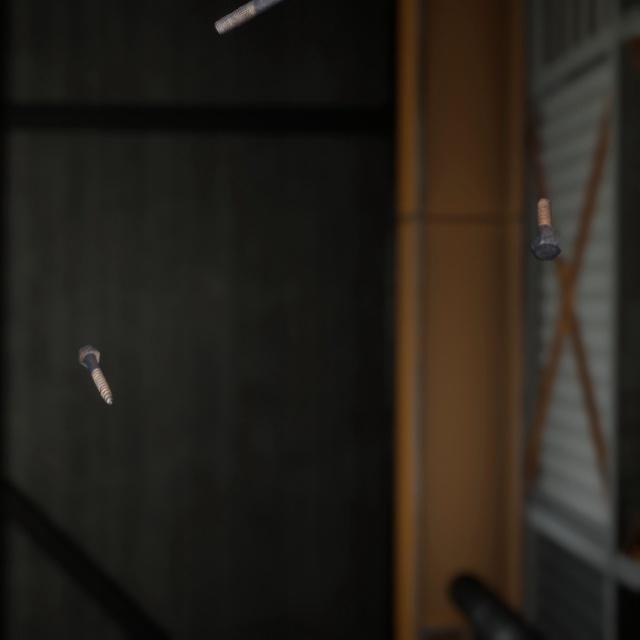bolt: (73, 321, 117, 389), (526, 178, 565, 249), (210, 0, 277, 31)
